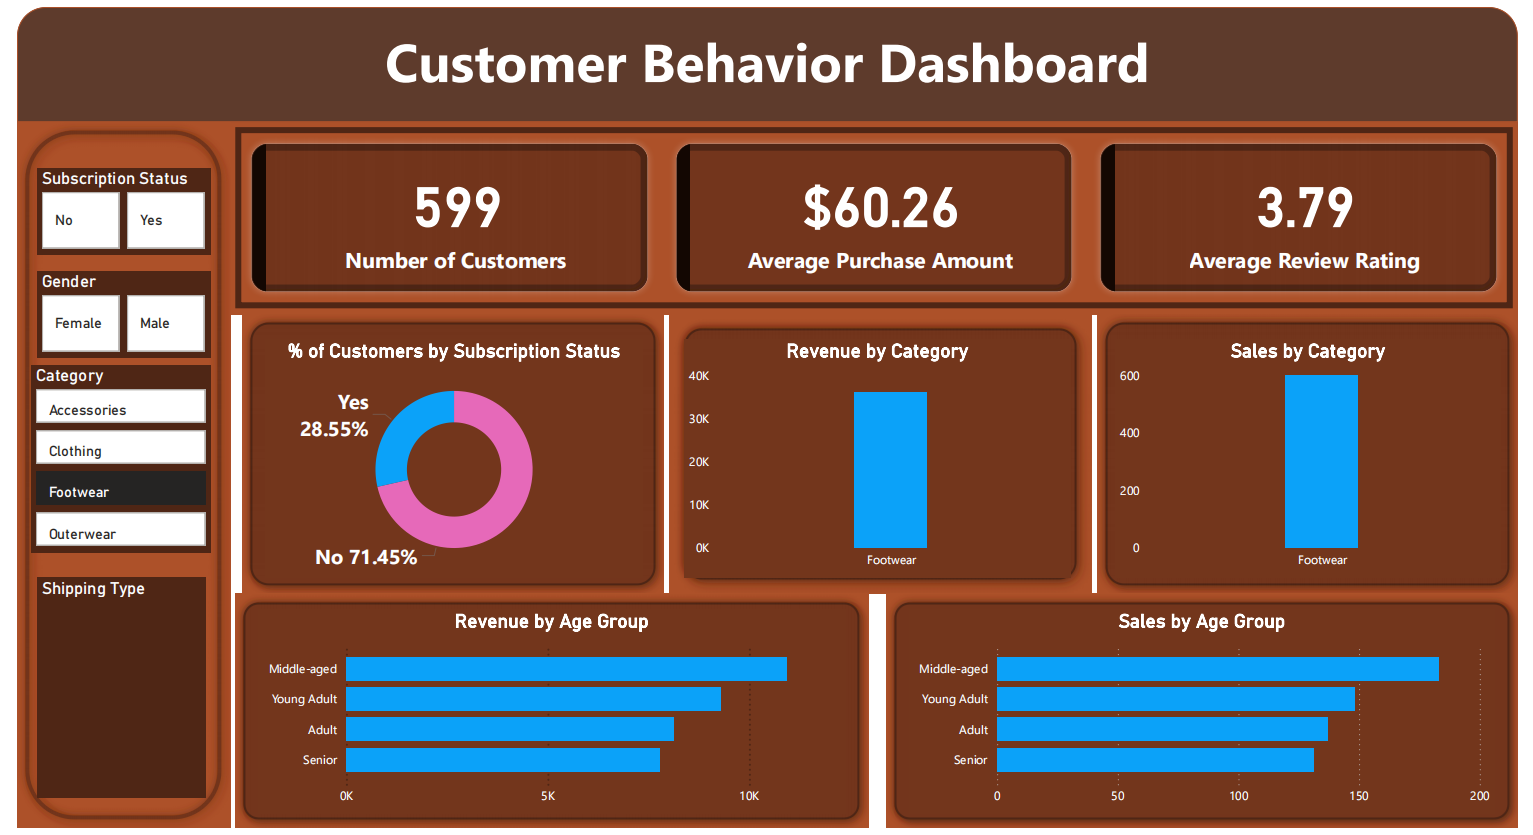

This screenshot's page, from the dashboard's own definition file:
{"tool":"powerbi","page":{"name":"Page 1","canvas":[1500,820],"ordinal":0},"visuals":[{"type":"cardVisual","fields":{"Data":["public customer.Number of Customers","public customer.Average Purchase Amount","public customer.Average Review Rating"]},"box":[212.9,115.3,1286.5,191.6],"z":2000},{"type":"shape","box":[218.3,585.6,631.7,234.2],"z":2500,"group":"g1"},{"type":"shape","box":[0,0,1499.4,115.3],"z":3000},{"type":"textbox","box":[0,12.4,1499.4,102.9],"z":4000},{"type":"shape","box":[225.4,307,420.5,278.6],"z":5000},{"type":"donutChart","title":"% of Customers by Subscription Status","fields":{"Category":["public customer.subscription_status"],"Y":["CountNonNull(public customer.customer_id)"]},"box":[248.4,331.8,376.2,237.8],"z":6000},{"type":"shape","box":[1078.9,307,420.5,278.6],"z":7000},{"type":"shape","box":[652.1,307,420.5,278.6],"z":8000},{"type":"clusteredColumnChart","title":"Revenue by Category","fields":{"Y":["Sum(public customer.purchase_amount)"],"Category":["public customer.category"]},"box":[667.2,331.8,385.1,237.8],"z":9000},{"type":"clusteredColumnChart","title":"Sales by Category","fields":{"Y":["CountNonNull(public customer.customer_id)"],"Category":["public customer.category"]},"box":[1096.6,331.8,385.1,237.8],"z":10000},{"type":"shape","box":[0,115.3,212.9,704.5],"z":11000},{"type":"advancedSlicerVisual","fields":{"Values":["public customer.subscription_status"]},"box":[19.5,161.5,173.9,85.2],"z":12000},{"type":"advancedSlicerVisual","fields":{"Values":["public customer.gender"]},"box":[19.5,264.4,173.9,85.2],"z":13000},{"type":"advancedSlicerVisual","fields":{"Values":["public customer.category"]},"box":[14.2,358.4,179.2,186.3],"z":14000},{"type":"listSlicer","fields":{"Values":["public customer.shipping_type"]},"box":[19.5,569.6,168.6,220],"z":15000},{"type":"shape","box":[867.7,585.6,631.7,234.2],"z":16000},{"type":"clusteredBarChart","title":"Sales by Age Group","fields":{"Y":["CountNonNull(public customer.customer_id)"],"Category":["public customer.age_group"]},"box":[890.8,601.5,585.6,204.1],"z":17000},{"type":"clusteredBarChart","title":"Revenue by Age Group","fields":{"Y":["Sum(public customer.purchase_amount)"],"Category":["public customer.age_group"]},"box":[241.4,601.6,585.6,204.1],"z":17500,"group":"g1"},{"type":"group","id":"g1","title":"Group 1","box":[218.3,585.6,631.7,234.2],"z":17501}]}

Visuals, with their boxes in screenshot pixels (x1, y1, x2, y2), scaled from the page's 1500x820 canvas onto the 1533x835 screenshot:
cardVisual - public customer.Number of Customers x public customer.Average Purchase Amount: rect(218, 117, 1532, 313)
shape: rect(223, 596, 869, 834)
shape: rect(0, 0, 1532, 117)
textbox: rect(0, 13, 1532, 117)
shape: rect(230, 313, 660, 596)
"% of Customers by Subscription Status" donutChart: rect(254, 338, 638, 580)
shape: rect(1103, 313, 1532, 596)
shape: rect(666, 313, 1096, 596)
"Revenue by Category" clusteredColumnChart: rect(682, 338, 1075, 580)
"Sales by Category" clusteredColumnChart: rect(1121, 338, 1514, 580)
shape: rect(0, 117, 218, 834)
advancedSlicerVisual - public customer.subscription_status: rect(20, 164, 198, 251)
advancedSlicerVisual - public customer.gender: rect(20, 269, 198, 356)
advancedSlicerVisual - public customer.category: rect(15, 365, 198, 555)
listSlicer - public customer.shipping_type: rect(20, 580, 192, 804)
shape: rect(887, 596, 1532, 834)
"Sales by Age Group" clusteredBarChart: rect(910, 613, 1509, 820)
"Revenue by Age Group" clusteredBarChart: rect(247, 613, 845, 820)
"Group 1" group: rect(223, 596, 869, 834)
